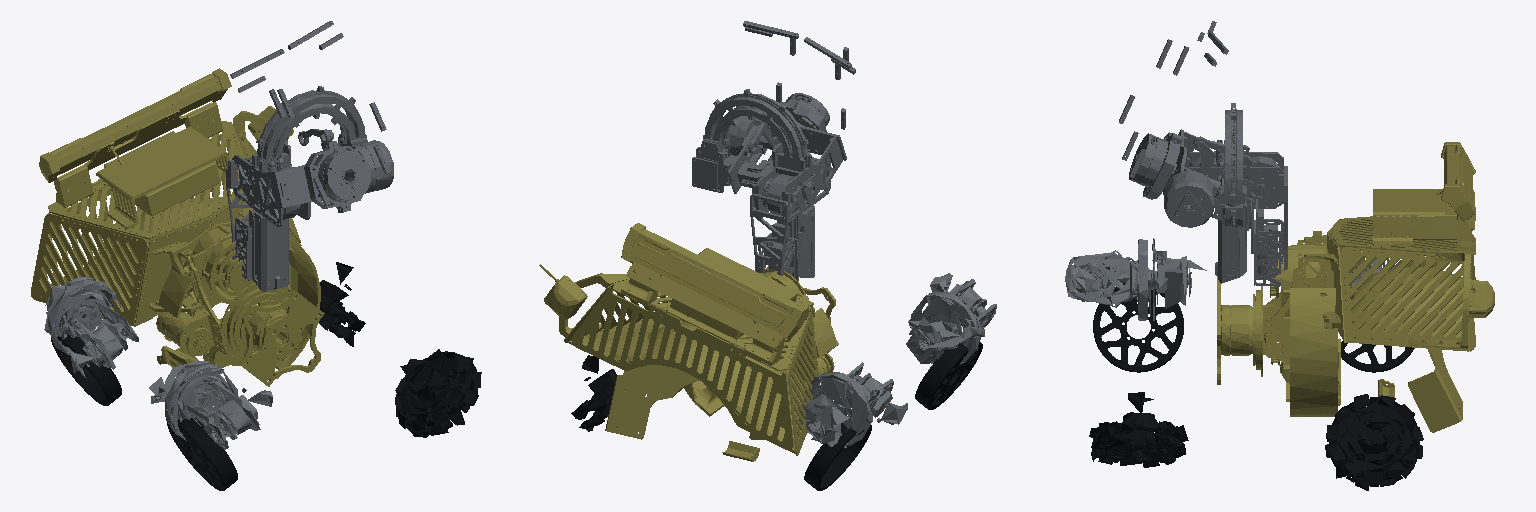
The robot description file, URDF, robot "sentry24":
<?xml version="1.0"?>
<!--
  sentry24: 24-sentry, generated from the CAD by tools/build_sentry_urdf_assets.py
  (Blender) + tools/prepare_sentry_urdf.py.

  Frame: URDF / REP-103 body frame (metres, +X forward, +Y left, +Z up).
  Variant: simulator (Phase 5): mesh files are Godot-frame, no visual rpy.
  The simulator's Phase 5 loader converts every pose and axis to the Godot
  frame; mesh files are authored in the Godot frame (Y up, -Z forward),
  which is why the visual origins are all identity.

  Chain:
    base_link
      -> wheel_front_{left,right}_joint   (continuous, axle)
      -> steer_rear_{left,right}_joint    (revolute about body Z)
           -> wheel_rear_{left,right}_joint (continuous, axle)
      -> gimbal_yaw_joint   (revolute about body Z, big-yaw bearing)
           -> gimbal_yaw_link
                -> gimbal_pitch_joint (revolute about body Y, launcher pitch bearing)
                     -> gimbal_pitch_link
                          -> camera_joint -> camera_link
                               -> camera_optical_joint -> camera_optical_frame
                          -> shot_joint -> shot_direction

  Source CAD: 24哨兵-总装.glb
-->
<robot name="sentry24">

  <material name="body_grey">
    <color rgba="0.52 0.54 0.56 1.0"/>
  </material>
  <material name="steer_grey">
    <color rgba="0.45 0.47 0.49 1.0"/>
  </material>
  <material name="rubber_black">
    <color rgba="0.10 0.11 0.12 1.0"/>
  </material>
  <material name="team_yellow">
    <color rgba="0.55 0.53 0.30 1.0"/>
  </material>
  <material name="head_dark">
    <color rgba="0.42 0.43 0.45 1.0"/>
  </material>

  <link name="base_link">
    <inertial>
      <origin xyz="0 0 0" rpy="0 0 0"/>
      <mass value="12.0000"/>
      <inertia ixx="0.403406" ixy="0" ixz="0" iyy="0.577738" iyz="0" izz="0.273394"/>
    </inertial>
    <visual name="base_link_visual">
      <origin xyz="0 0 0" rpy="0 0 0"/>
      <geometry>
        <mesh filename="meshes/base_link.obj" scale="1 1 1"/>
      </geometry>
      <material name="body_grey"/>
    </visual>
  </link>

  <link name="wheel_front_left">
    <inertial>
      <origin xyz="0 0 0" rpy="0 0 0"/>
      <mass value="0.8000"/>
      <inertia ixx="0.002006" ixy="0" ixz="0" iyy="0.001749" iyz="0" izz="0.002029"/>
    </inertial>
    <visual name="wheel_front_left_visual">
      <origin xyz="0 0 0" rpy="0 0 0"/>
      <geometry>
        <mesh filename="meshes/wheel_front_left.obj" scale="1 1 1"/>
      </geometry>
      <material name="rubber_black"/>
    </visual>
  </link>

  <link name="wheel_front_right">
    <inertial>
      <origin xyz="0 0 0" rpy="0 0 0"/>
      <mass value="0.8000"/>
      <inertia ixx="0.001945" ixy="0" ixz="0" iyy="0.001641" iyz="0" izz="0.001988"/>
    </inertial>
    <visual name="wheel_front_right_visual">
      <origin xyz="0 0 0" rpy="0 0 0"/>
      <geometry>
        <mesh filename="meshes/wheel_front_right.obj" scale="1 1 1"/>
      </geometry>
      <material name="rubber_black"/>
    </visual>
  </link>

  <link name="steer_rear_left">
    <inertial>
      <origin xyz="0 0 0" rpy="0 0 0"/>
      <mass value="0.9000"/>
      <inertia ixx="0.003483" ixy="0" ixz="0" iyy="0.002243" iyz="0" izz="0.003924"/>
    </inertial>
    <visual name="steer_rear_left_visual">
      <origin xyz="0 0 0" rpy="0 0 0"/>
      <geometry>
        <mesh filename="meshes/steer_rear_left.obj" scale="1 1 1"/>
      </geometry>
      <material name="steer_grey"/>
    </visual>
  </link>

  <link name="steer_rear_right">
    <inertial>
      <origin xyz="0 0 0" rpy="0 0 0"/>
      <mass value="0.9000"/>
      <inertia ixx="0.003535" ixy="0" ixz="0" iyy="0.002291" iyz="0" izz="0.004008"/>
    </inertial>
    <visual name="steer_rear_right_visual">
      <origin xyz="0 0 0" rpy="0 0 0"/>
      <geometry>
        <mesh filename="meshes/steer_rear_right.obj" scale="1 1 1"/>
      </geometry>
      <material name="steer_grey"/>
    </visual>
  </link>

  <link name="wheel_rear_left">
    <inertial>
      <origin xyz="0 0 0" rpy="0 0 0"/>
      <mass value="0.6000"/>
      <inertia ixx="0.001399" ixy="0" ixz="0" iyy="0.000979" iyz="0" izz="0.001015"/>
    </inertial>
    <visual name="wheel_rear_left_visual">
      <origin xyz="0 0 0" rpy="0 0 0"/>
      <geometry>
        <mesh filename="meshes/wheel_rear_left.obj" scale="1 1 1"/>
      </geometry>
      <material name="rubber_black"/>
    </visual>
  </link>

  <link name="wheel_rear_right">
    <inertial>
      <origin xyz="0 0 0" rpy="0 0 0"/>
      <mass value="0.6000"/>
      <inertia ixx="0.001399" ixy="0" ixz="0" iyy="0.000979" iyz="0" izz="0.001016"/>
    </inertial>
    <visual name="wheel_rear_right_visual">
      <origin xyz="0 0 0" rpy="0 0 0"/>
      <geometry>
        <mesh filename="meshes/wheel_rear_right.obj" scale="1 1 1"/>
      </geometry>
      <material name="rubber_black"/>
    </visual>
  </link>

  <link name="gimbal_yaw_link">
    <inertial>
      <origin xyz="0 0 0" rpy="0 0 0"/>
      <mass value="3.0000"/>
      <inertia ixx="0.066849" ixy="0" ixz="0" iyy="0.077181" iyz="0" izz="0.076983"/>
    </inertial>
    <visual name="gimbal_yaw_link_visual">
      <origin xyz="0 0 0" rpy="0 0 0"/>
      <geometry>
        <mesh filename="meshes/gimbal_yaw_link.obj" scale="1 1 1"/>
      </geometry>
      <material name="team_yellow"/>
    </visual>
  </link>

  <link name="gimbal_pitch_link">
    <inertial>
      <origin xyz="0 0 0" rpy="0 0 0"/>
      <mass value="1.6000"/>
      <inertia ixx="0.025422" ixy="0" ixz="0" iyy="0.025607" iyz="0" izz="0.013411"/>
    </inertial>
    <visual name="gimbal_pitch_link_visual">
      <origin xyz="0 0 0" rpy="0 0 0"/>
      <geometry>
        <mesh filename="meshes/gimbal_pitch_link.obj" scale="1 1 1"/>
      </geometry>
      <material name="head_dark"/>
    </visual>
  </link>

  <link name="camera_link"/>
  <link name="camera_optical_frame"/>
  <link name="shot_direction"/>

  <joint name="wheel_front_left_joint" type="continuous">
    <parent link="base_link"/>
    <child link="wheel_front_left"/>
    <origin xyz="0.185226 0.155006 0.065050" rpy="0 0 0"/>
    <axis xyz="0.000000 -1.000000 0.000000"/>
  </joint>

  <joint name="wheel_front_right_joint" type="continuous">
    <parent link="base_link"/>
    <child link="wheel_front_right"/>
    <origin xyz="0.185226 -0.155006 0.065050" rpy="0 0 0"/>
    <axis xyz="0.000000 -1.000000 0.000000"/>
  </joint>

  <joint name="steer_rear_left_joint" type="revolute">
    <parent link="base_link"/>
    <child link="steer_rear_left"/>
    <origin xyz="-0.175000 0.153399 0.128478" rpy="0 0 0"/>
    <axis xyz="-0.000000 -0.000000 1.000000"/>
    <limit lower="-3.141590" upper="3.141590" effort="5.0" velocity="3.0"/>
  </joint>

  <joint name="wheel_rear_left_joint" type="continuous">
    <parent link="steer_rear_left"/>
    <child link="wheel_rear_left"/>
    <origin xyz="0.000000 0.001601 -0.068500" rpy="0 0 0"/>
    <axis xyz="0.000000 -1.000000 0.000000"/>
  </joint>

  <joint name="steer_rear_right_joint" type="revolute">
    <parent link="base_link"/>
    <child link="steer_rear_right"/>
    <origin xyz="-0.175000 -0.153399 0.128478" rpy="0 0 0"/>
    <axis xyz="-0.000000 -0.000000 1.000000"/>
    <limit lower="-3.141590" upper="3.141590" effort="5.0" velocity="3.0"/>
  </joint>

  <joint name="wheel_rear_right_joint" type="continuous">
    <parent link="steer_rear_right"/>
    <child link="wheel_rear_right"/>
    <origin xyz="0.000000 -0.001601 -0.068500" rpy="0 0 0"/>
    <axis xyz="0.000000 -1.000000 0.000000"/>
  </joint>

  <joint name="gimbal_yaw_joint" type="revolute">
    <parent link="base_link"/>
    <child link="gimbal_yaw_link"/>
    <origin xyz="0.007531 0.000321 0.139978" rpy="0 0 0"/>
    <axis xyz="-0.000000 -0.000000 1.000000"/>
    <limit lower="-3.141590" upper="3.141590" effort="5.0" velocity="3.0"/>
  </joint>

  <joint name="gimbal_pitch_joint" type="revolute">
    <parent link="gimbal_yaw_link"/>
    <child link="gimbal_pitch_link"/>
    <origin xyz="0.059615 -0.029985 0.215000" rpy="0 0 0"/>
    <axis xyz="0.000000 1.000000 0.000000"/>
    <limit lower="-0.523600" upper="0.523600" effort="5.0" velocity="3.0"/>
  </joint>

  <joint name="camera_joint" type="fixed">
    <parent link="gimbal_pitch_link"/>
    <child link="camera_link"/>
    <origin xyz="0.136730 0.063570 0.043224" rpy="0 0 0"/>
  </joint>

  <joint name="camera_optical_joint" type="fixed">
    <parent link="camera_link"/>
    <child link="camera_optical_frame"/>
    <origin xyz="0.000000 0.000000 0.000000" rpy="-1.570796 0.000000 -1.570796"/>
  </joint>

  <joint name="shot_joint" type="fixed">
    <parent link="gimbal_pitch_link"/>
    <child link="shot_direction"/>
    <origin xyz="0.117980 0.063570 -0.000317" rpy="0 0 0"/>
  </joint>

</robot>

--- Render facts (derived) ---
3 views of the same robot in one strip: view 1: azimuth 30°, elevation 25°; view 2: azimuth 150°, elevation 25°; view 3: azimuth 270°, elevation 25° (orthographic).
Robot: sentry24 — 12 links, 11 joints (4 revolute, 4 continuous, 3 fixed); root link base_link; default pose: all joints at 0.
Links seen in each view (by area): view 1: gimbal_yaw_link, gimbal_pitch_link, steer_rear_right, wheel_front_right, steer_rear_left, wheel_rear_right, wheel_rear_left, wheel_front_left; view 2: gimbal_yaw_link, gimbal_pitch_link, steer_rear_left, steer_rear_right, wheel_rear_right, wheel_rear_left, wheel_front_left; view 3: gimbal_yaw_link, gimbal_pitch_link, wheel_front_left, steer_rear_right, wheel_front_right, wheel_rear_right, wheel_rear_left.
Boxes of the visible links, x1,y1,x2,y2 form: gimbal_yaw_link: [31, 68, 324, 386]; gimbal_pitch_link: [226, 21, 393, 291]; steer_rear_right: [149, 361, 272, 449]; wheel_front_right: [395, 349, 481, 437]; steer_rear_left: [44, 277, 138, 377]; wheel_rear_right: [167, 417, 237, 490]; wheel_rear_left: [51, 335, 121, 405]; wheel_front_left: [319, 262, 365, 346]; gimbal_yaw_link: [539, 223, 838, 461]; gimbal_pitch_link: [692, 21, 855, 280]; steer_rear_left: [798, 362, 907, 447]; steer_rear_right: [906, 273, 996, 363]; wheel_rear_right: [915, 342, 982, 409]; wheel_rear_left: [804, 423, 871, 490]; wheel_front_left: [571, 355, 616, 431]; gimbal_yaw_link: [1217, 142, 1494, 432]; gimbal_pitch_link: [1119, 21, 1287, 286]; wheel_front_left: [1325, 394, 1423, 490]; steer_rear_right: [1065, 238, 1206, 320]; wheel_front_right: [1089, 392, 1188, 467]; wheel_rear_right: [1093, 283, 1183, 372]; wheel_rear_left: [1341, 341, 1414, 372].
Size in the robot's own frame: 0.4863 by 0.5655 by 0.5842 metres.
8 mesh visuals loaded from 9 distinct referenced files (8 OBJ); not drawn: 1 (reference not matched to a file when rendering).
